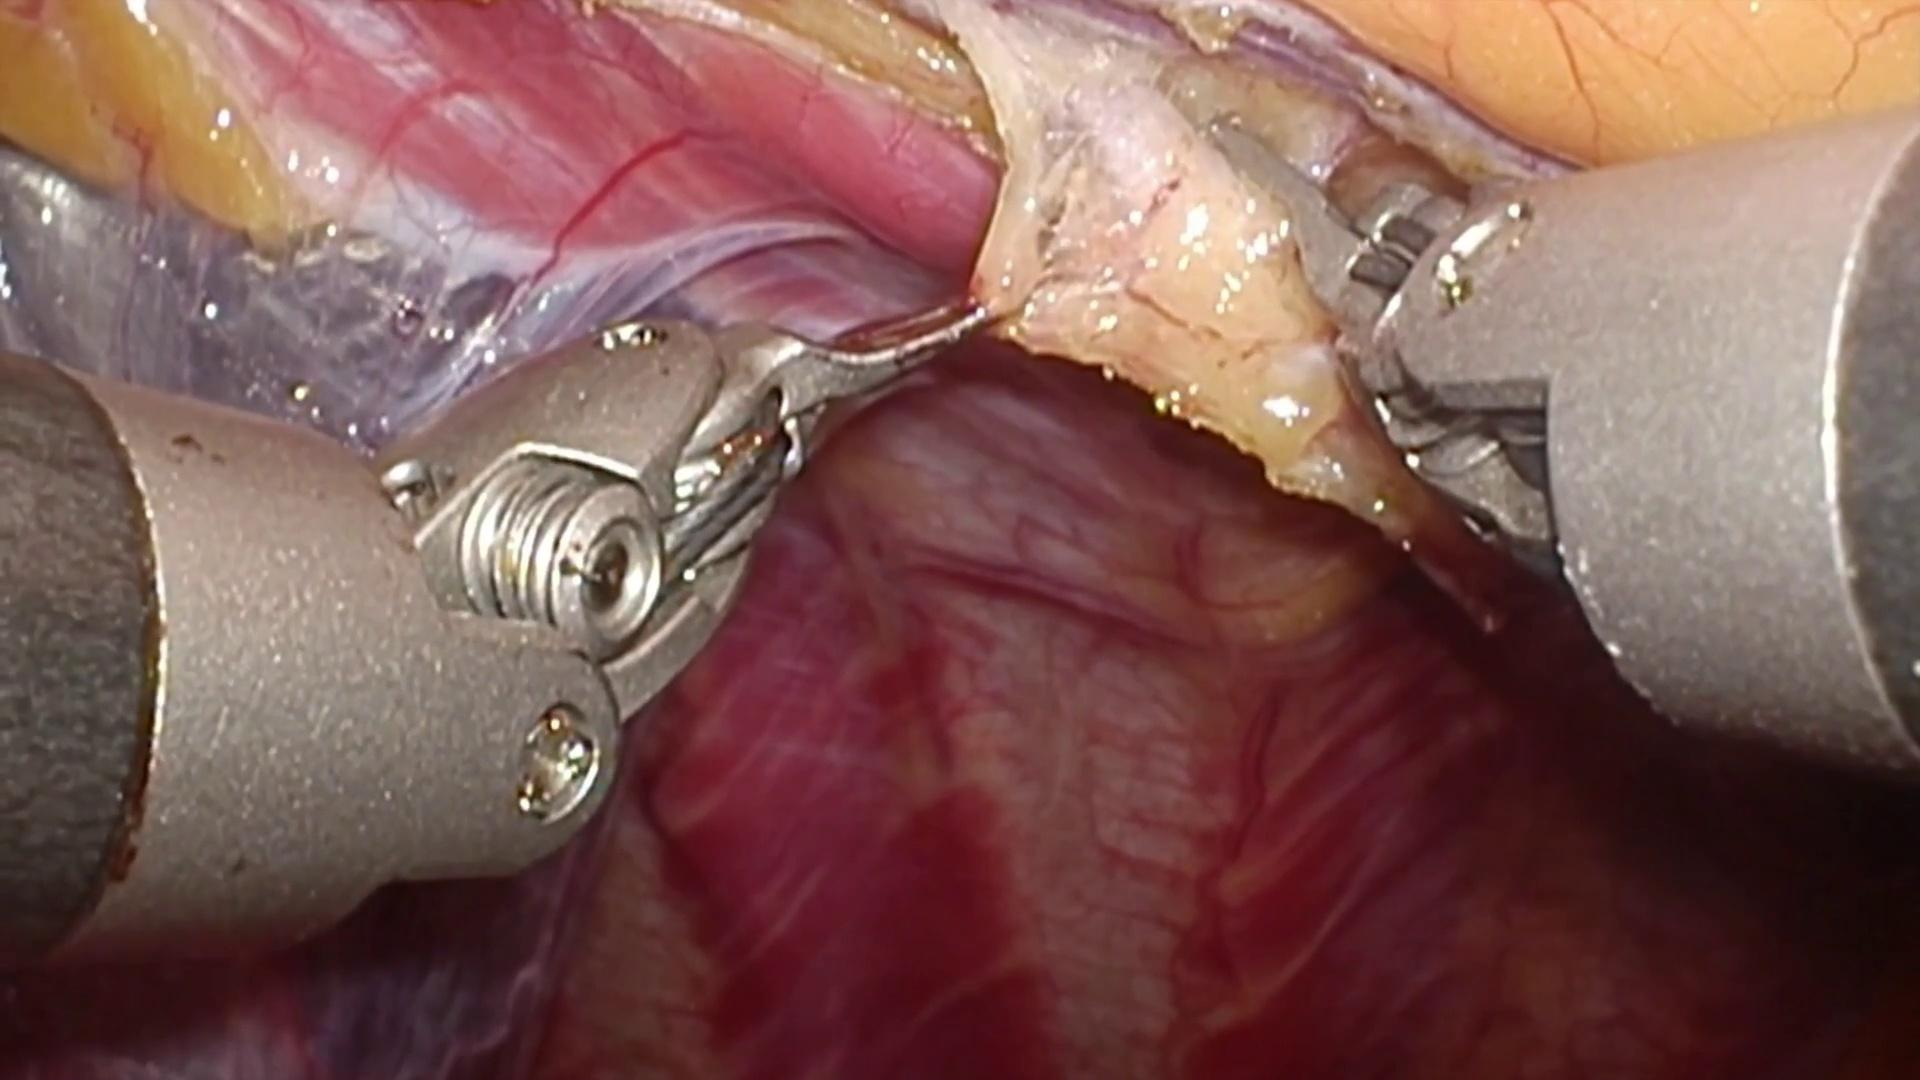Debakey: (709, 297, 1005, 447)
clipper: (1208, 99, 1610, 618)
